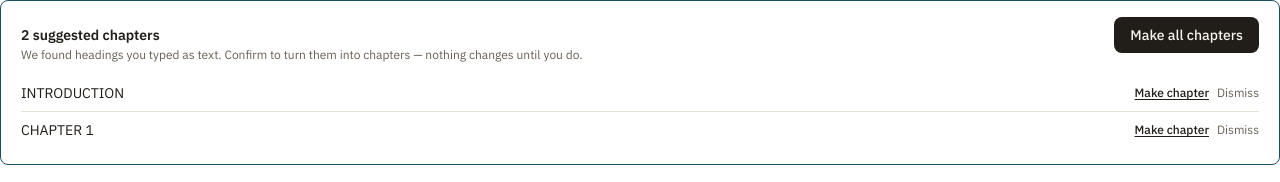
Test: StructureSuggestionsPanel (STRUCTURE_ASSIST) › A1: an in-flight promote changes ONLY its own button — the others stay live
Check: the text "INTRODUCTION" is shown, box [21,83,124,103]
Step 1. Click the button "Make chapter" in the row of "INTRODUCTION" → (1172, 93), box [1134,85,1209,101]
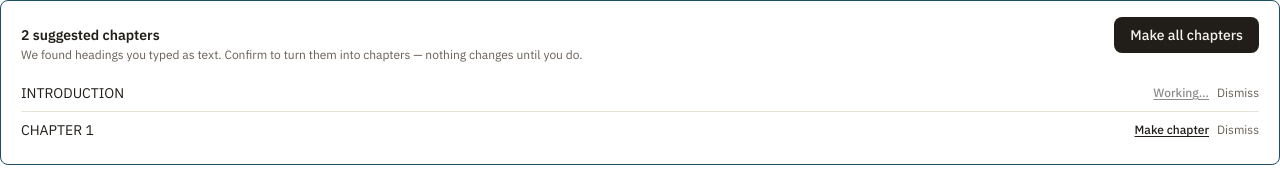
Check: the button "Make chapter" is enabled, box [1134,122,1209,138]
Check: the button "Working…" is disabled, box [1153,85,1209,101]
